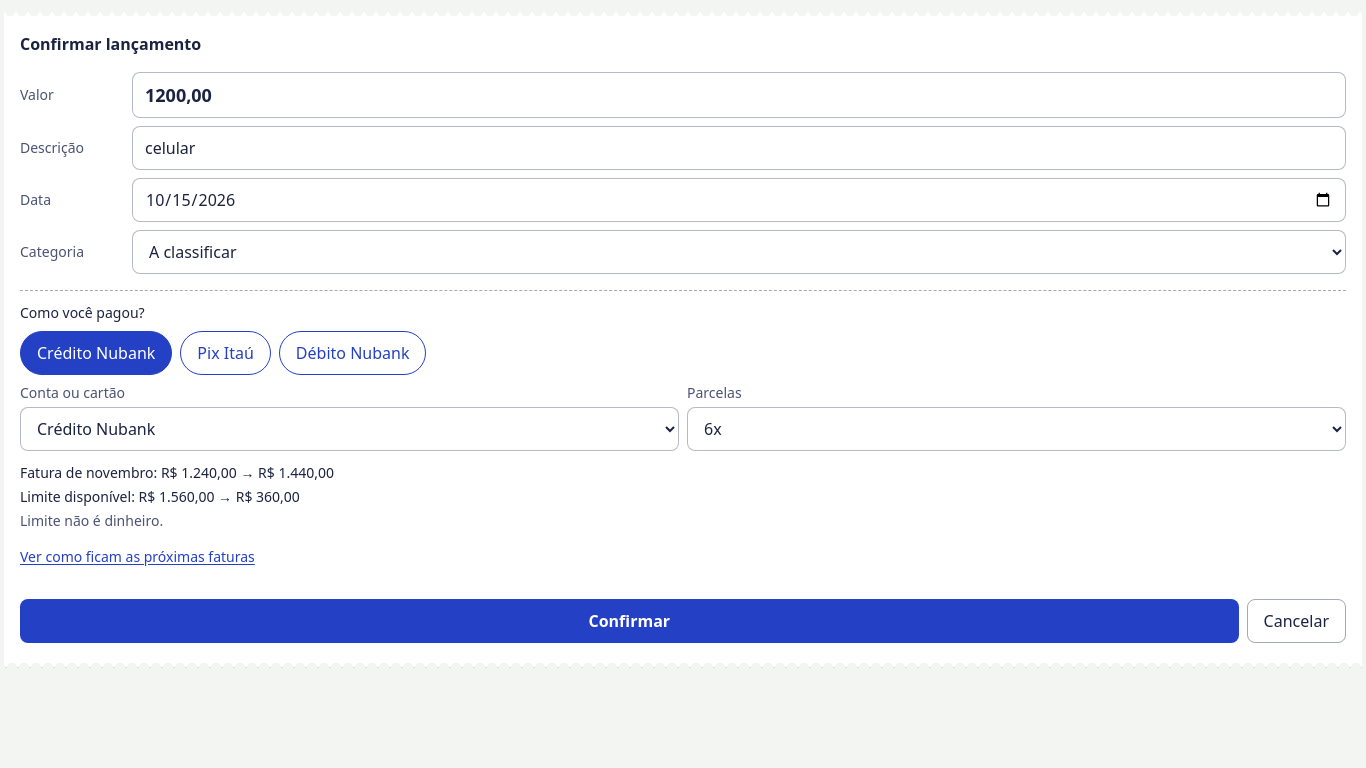
it: installment impact opens next invoices on demand
The image size is (1366, 768).
Check: the text "dezembro: R$ 3.000,00 → R$ 3.200,00" is not shown
Click the heading "Ver como ficam as próximas faturas" at (137, 556), box [20, 547, 255, 566]
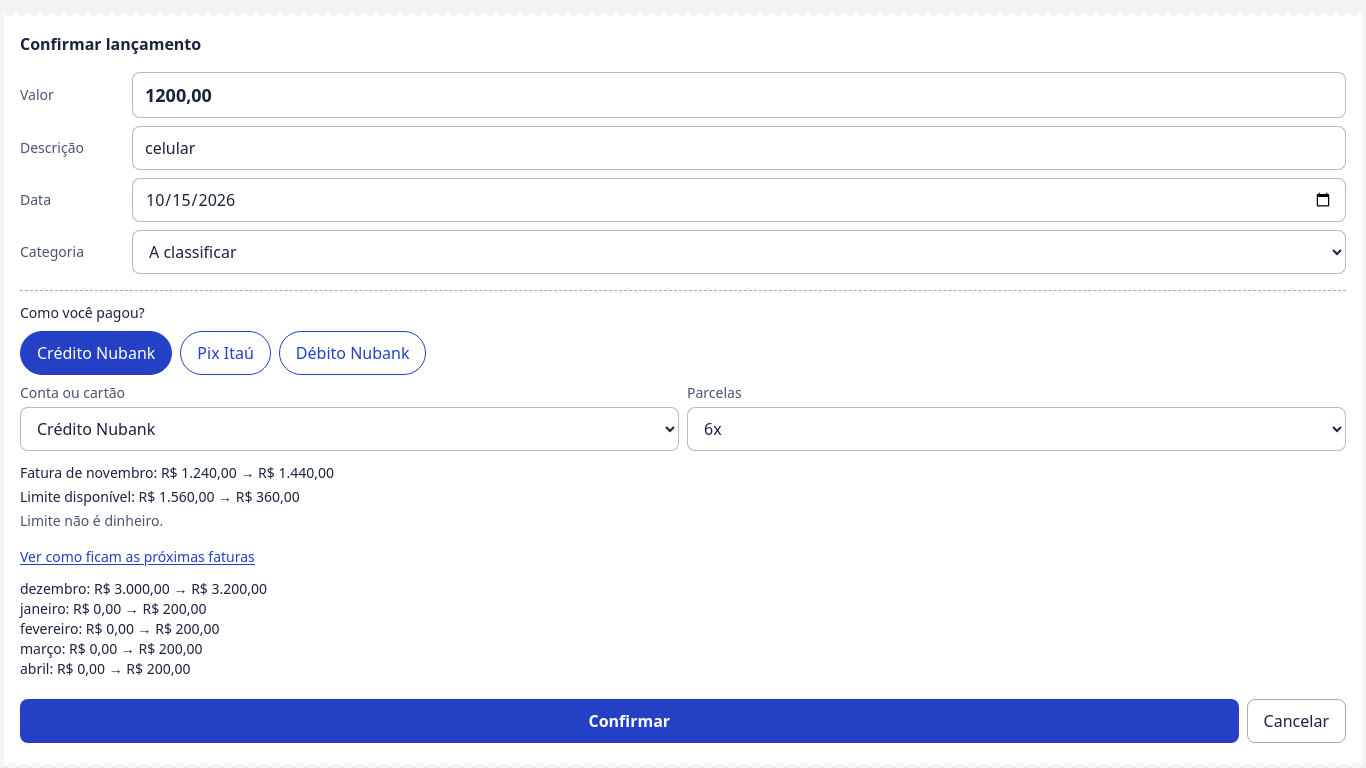
Check: the list item "dezembro: R$ 3.000,00 → R$ 3.200,00" is shown, box [20, 579, 267, 598]
